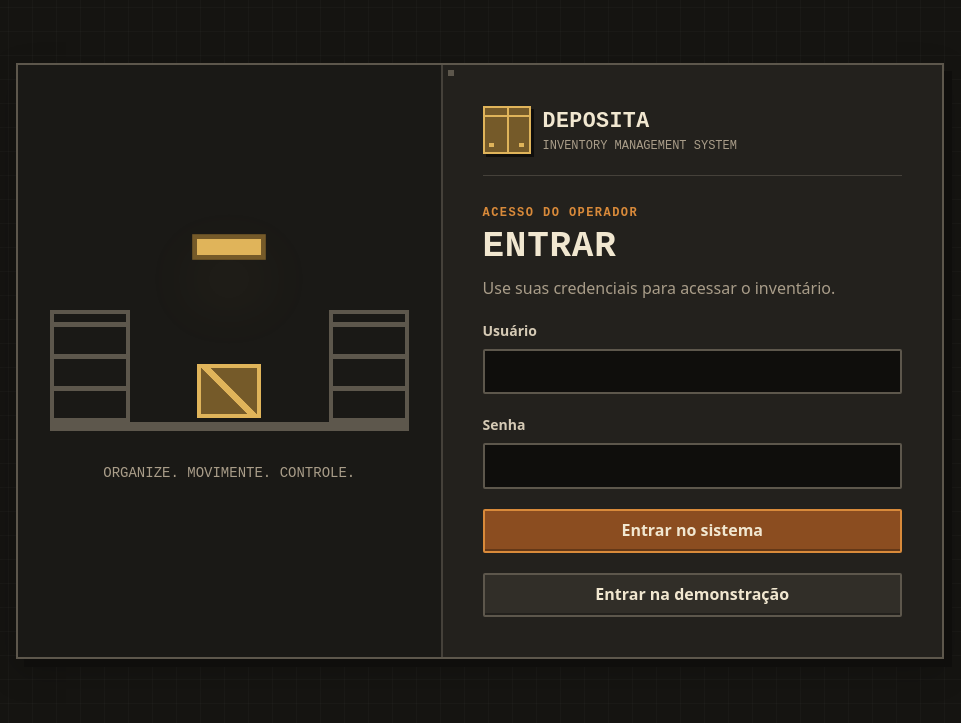
Scenario: LoginPage › mostra uma mensagem amigável quando a demonstração não conecta
The image size is (961, 723).
Click the button "Entrar na demonstração" at x=692, y=595, box [482,573,902,617]
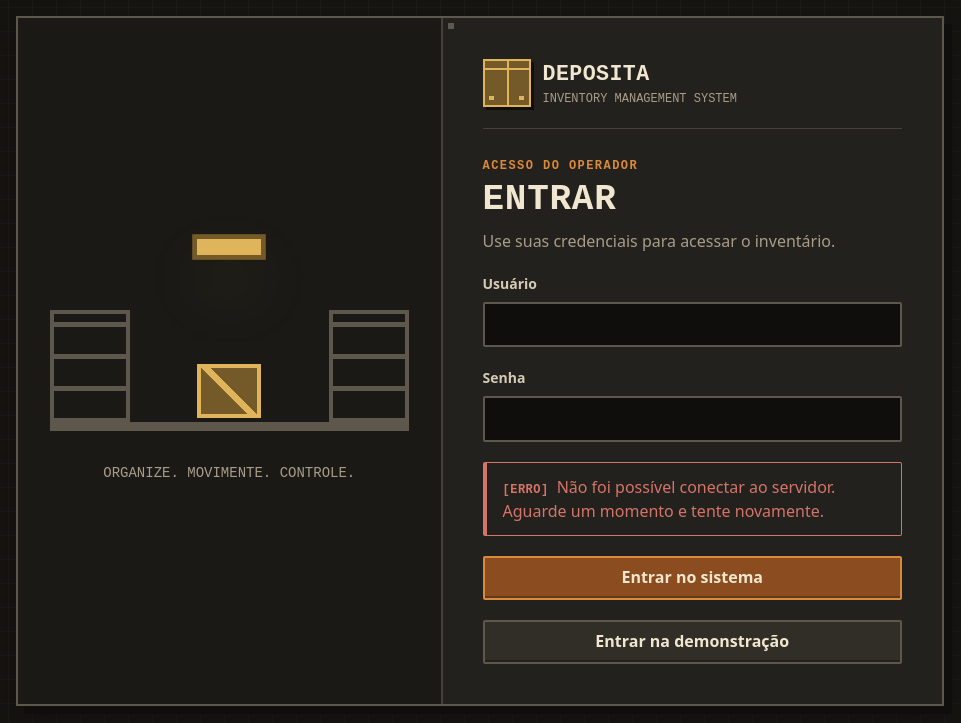
Check: the message shows "Não foi possível conectar ao servidor", box [502,476,835,522]
